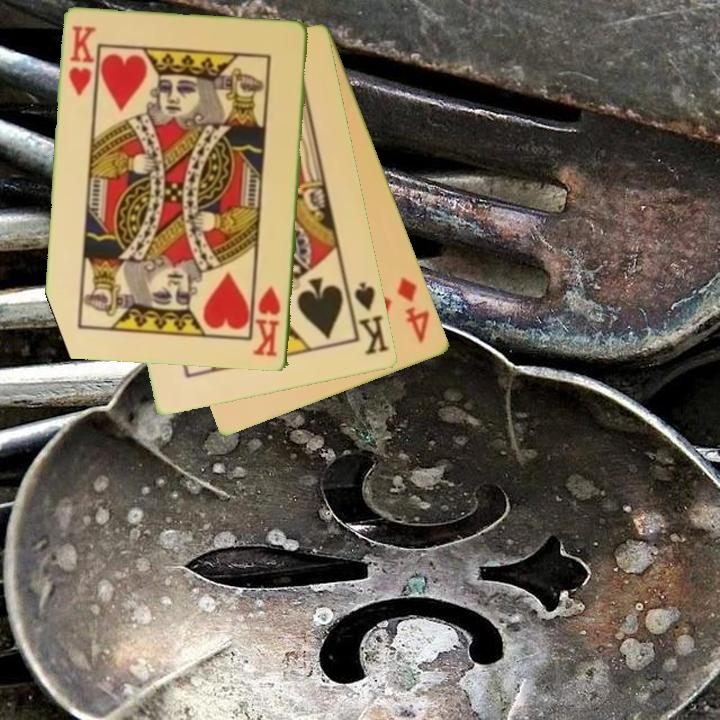4d: (394, 273, 433, 346)
Kh: (66, 22, 100, 99), (251, 283, 284, 360)
Ks: (351, 278, 392, 358)
